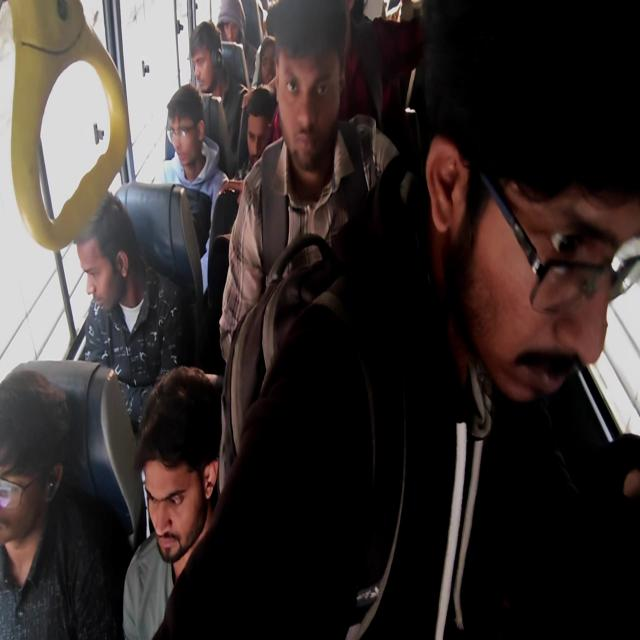person: (433, 23, 615, 344), (120, 371, 224, 563), (282, 26, 368, 192), (0, 378, 68, 556), (70, 204, 129, 327), (168, 90, 213, 182), (188, 28, 230, 88), (252, 104, 279, 180), (211, 2, 245, 44), (261, 43, 286, 89)
